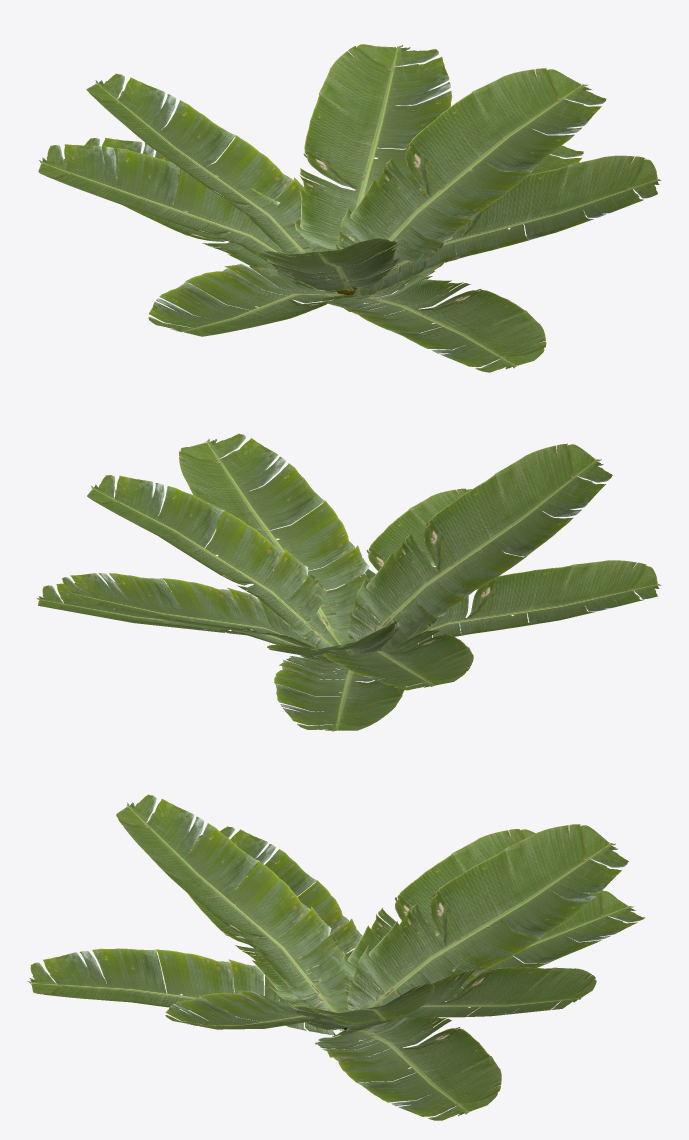
File: Plant_00.fbx
The picture shows the model from 3 angles, top to bottom: view 1: azimuth 30°, elevation 25°; view 2: azimuth 150°, elevation 25°; view 3: azimuth 270°, elevation 25°; orthographic projection. The views are drawn at different scales.
Visible parts, largest first — view 1: pPlane10, pPlane6, pPlane9, pPlane5, pPlane1, pPlane7, pPlane2, pPlane8, pPlane3, pPlane4; view 2: pPlane8, pPlane5, pPlane10, pPlane2, pPlane6, pPlane3, pPlane7, pPlane1, pPlane4, pPlane9; view 3: pPlane9, pPlane8, pPlane4, pPlane1, pPlane6, pPlane2, pPlane7, pPlane3, pPlane5, pPlane10.
Boxes of the visible parts, x1,y1,x2,y2 form: pPlane10: [336, 68, 606, 293]; pPlane6: [294, 44, 452, 275]; pPlane9: [86, 73, 337, 292]; pPlane5: [353, 155, 661, 299]; pPlane1: [322, 276, 546, 372]; pPlane7: [38, 144, 336, 292]; pPlane2: [148, 263, 370, 336]; pPlane8: [256, 238, 399, 291]; pPlane3: [63, 138, 308, 291]; pPlane4: [330, 145, 583, 291]; pPlane8: [347, 443, 612, 652]; pPlane5: [179, 433, 378, 650]; pPlane10: [87, 475, 338, 648]; pPlane2: [395, 560, 661, 652]; pPlane6: [62, 573, 318, 649]; pPlane3: [274, 656, 405, 731]; pPlane7: [311, 629, 473, 690]; pPlane1: [336, 488, 504, 624]; pPlane4: [36, 581, 302, 647]; pPlane9: [267, 621, 399, 660]; pPlane9: [347, 824, 628, 1032]; pPlane8: [116, 794, 352, 1030]; pPlane4: [315, 1013, 501, 1120]; pPlane1: [27, 948, 344, 1035]; pPlane6: [338, 967, 596, 1035]; pPlane2: [186, 826, 362, 1030]; pPlane7: [343, 829, 535, 1010]; pPlane3: [380, 890, 645, 1031]; pPlane5: [165, 990, 372, 1030]; pPlane10: [293, 983, 434, 1030].
Size of the model in its own units: 52.52 by 16.49 by 52.74.
